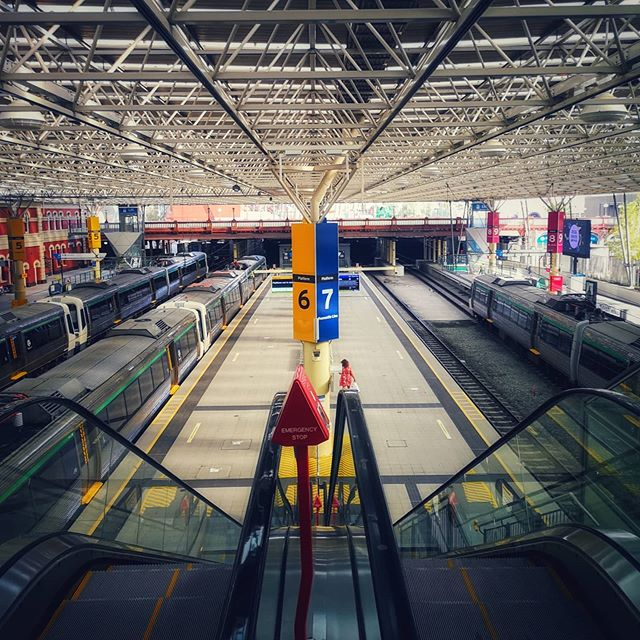sign: (282, 222, 355, 343)
train: (1, 245, 285, 490), (466, 272, 637, 404)
train track: (374, 267, 582, 513)
